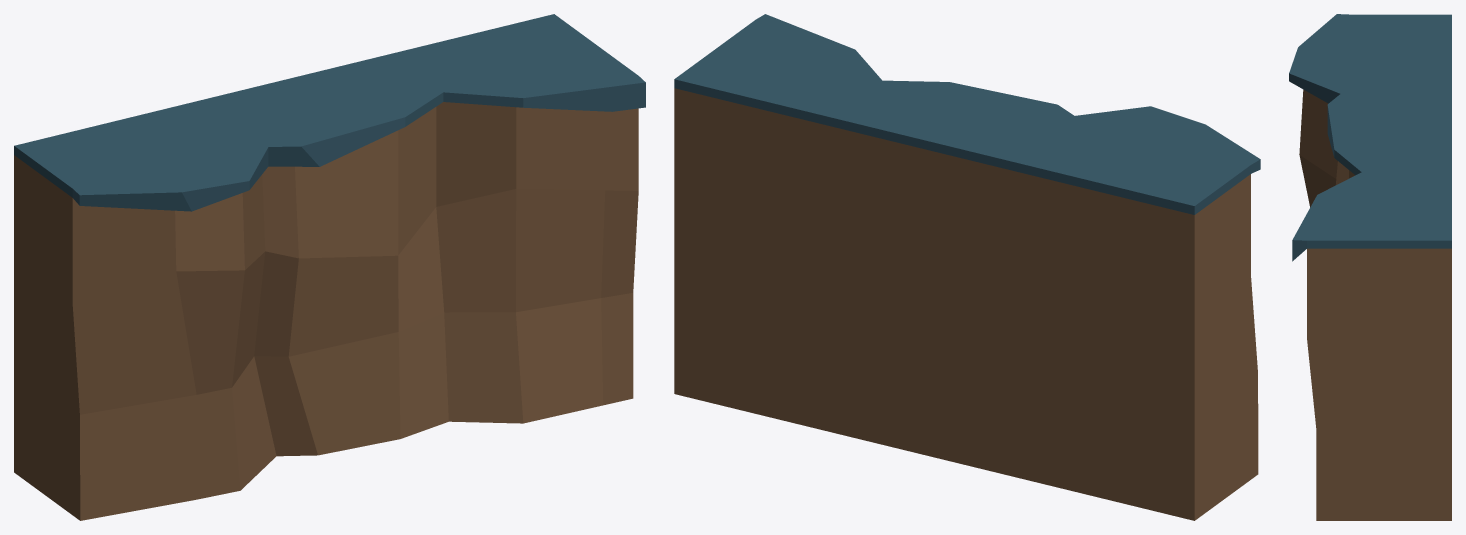
The model's file is Cliff.fbx.
The picture shows the model from 3 angles, left to right: view 1: azimuth 30°, elevation 25°; view 2: azimuth 150°, elevation 25°; view 3: azimuth 270°, elevation 25°; orthographic projection. The views are drawn at different scales.
Visible parts, largest first — view 1: Cliff; view 2: Cliff; view 3: Cliff.
Part boxes in pixels (left/top/right/bottom): Cliff: left=14, top=14, right=645, bottom=520; Cliff: left=674, top=14, right=1260, bottom=520; Cliff: left=1289, top=14, right=1451, bottom=520.
Size of the model in its own units: 1069 by 616 by 325.
